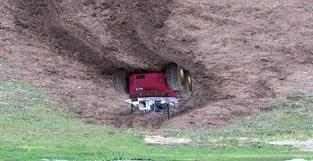vehicle_track: (14, 0, 135, 72), (99, 0, 178, 67)
